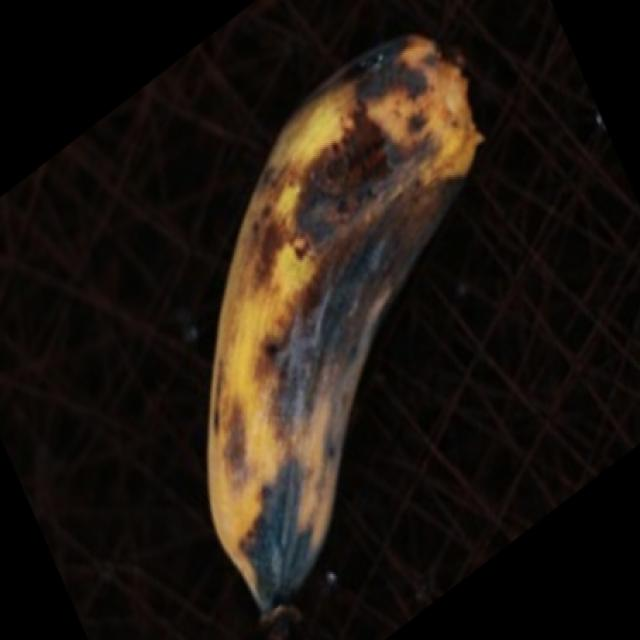Rotten: (174, 9, 538, 618)
